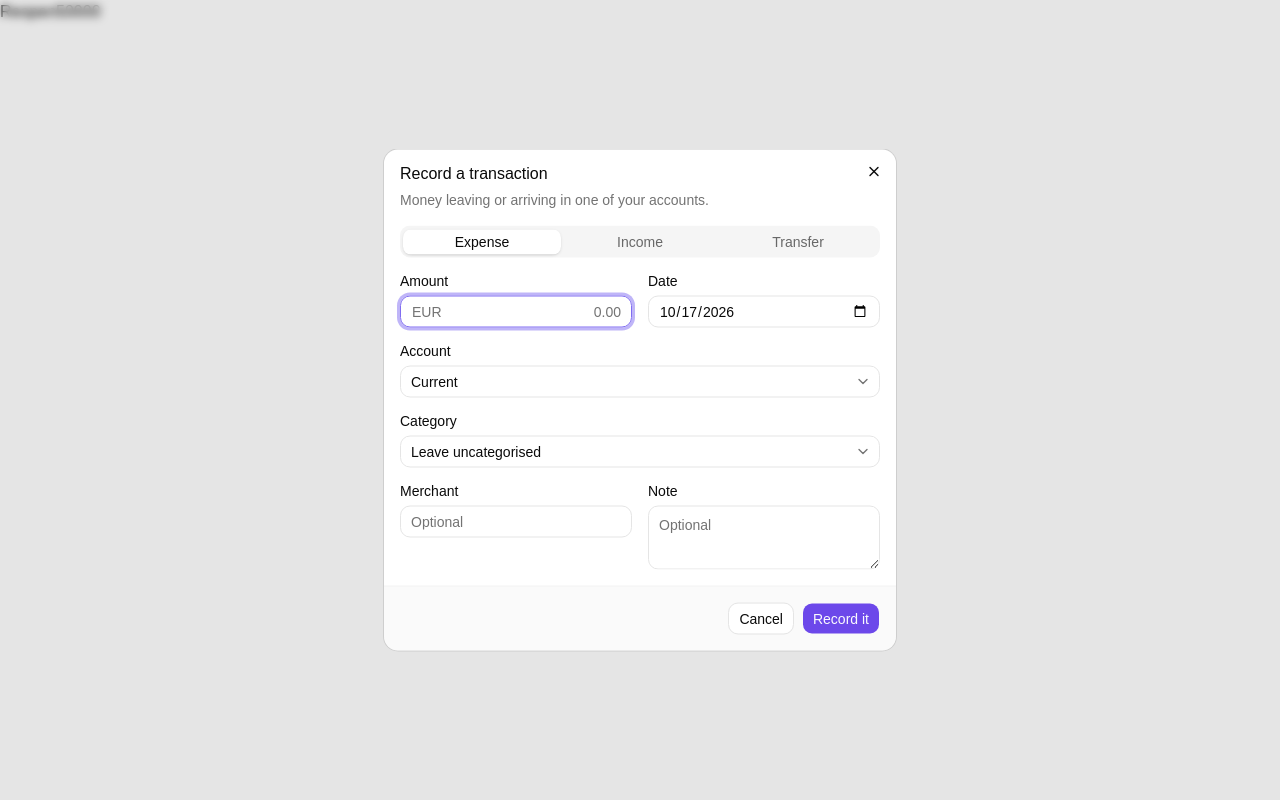
Test: recording a transfer › keeps the account the money leaves out of the destinations
The width and height of the screenshot is (1280, 800).
Click the tab "Transfer" at (798, 242), box [719,229,877,254]
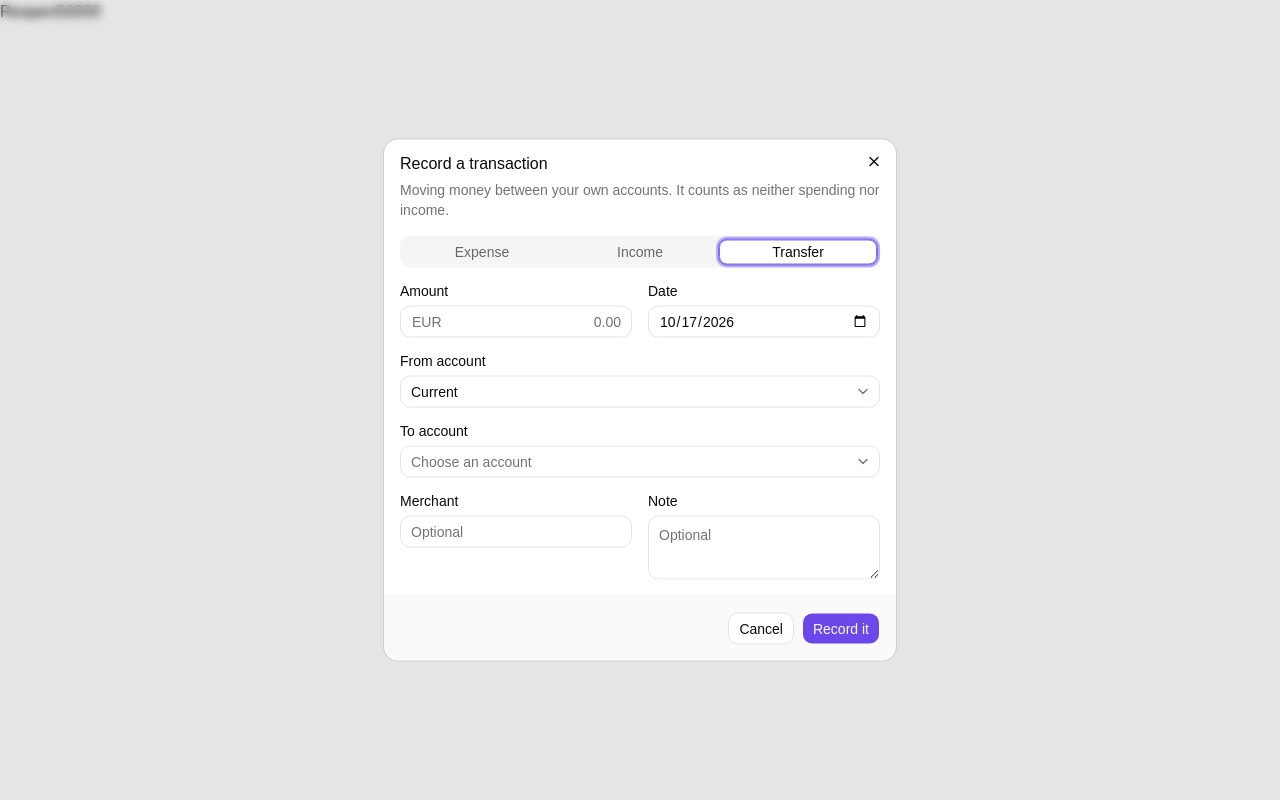
Click the dropdown named "To account" at (471, 462), box [400,446,880,478]
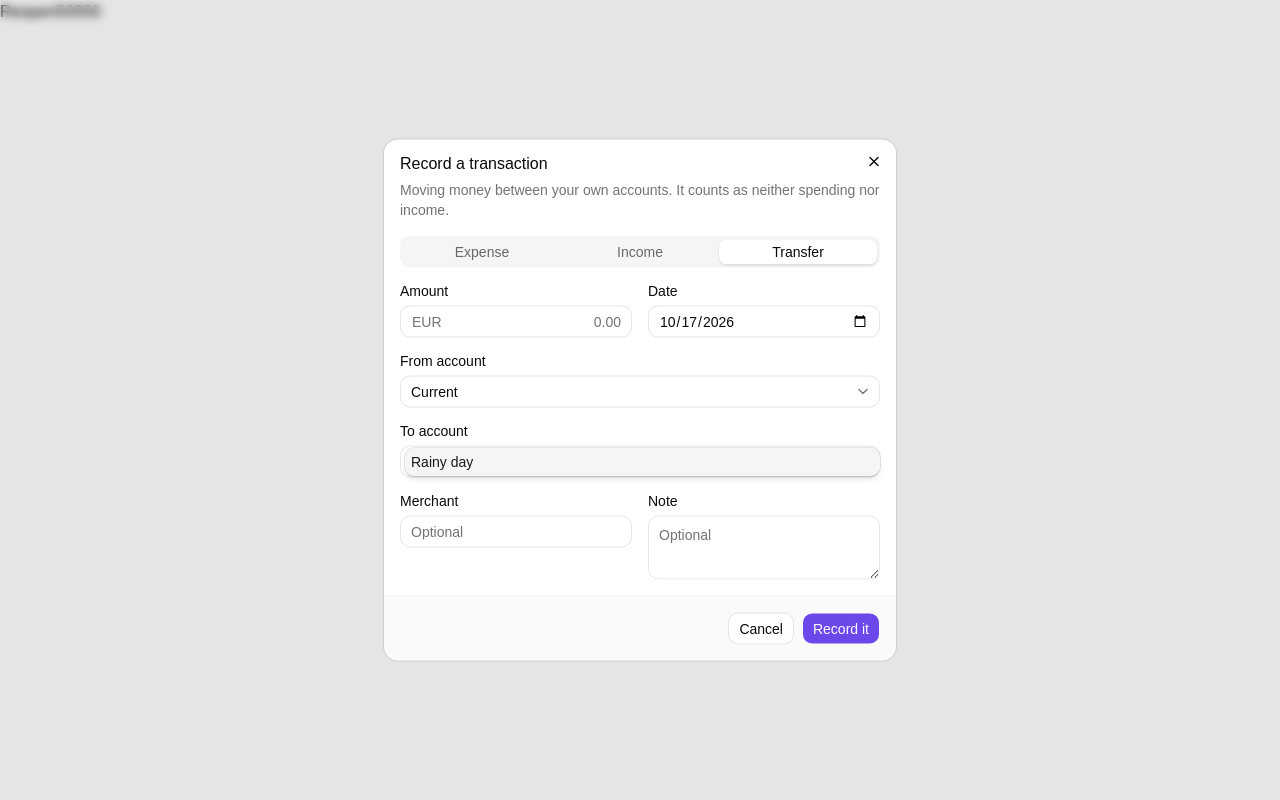
Expected: the option "Rainy day" is shown, [405,448,880,476]
